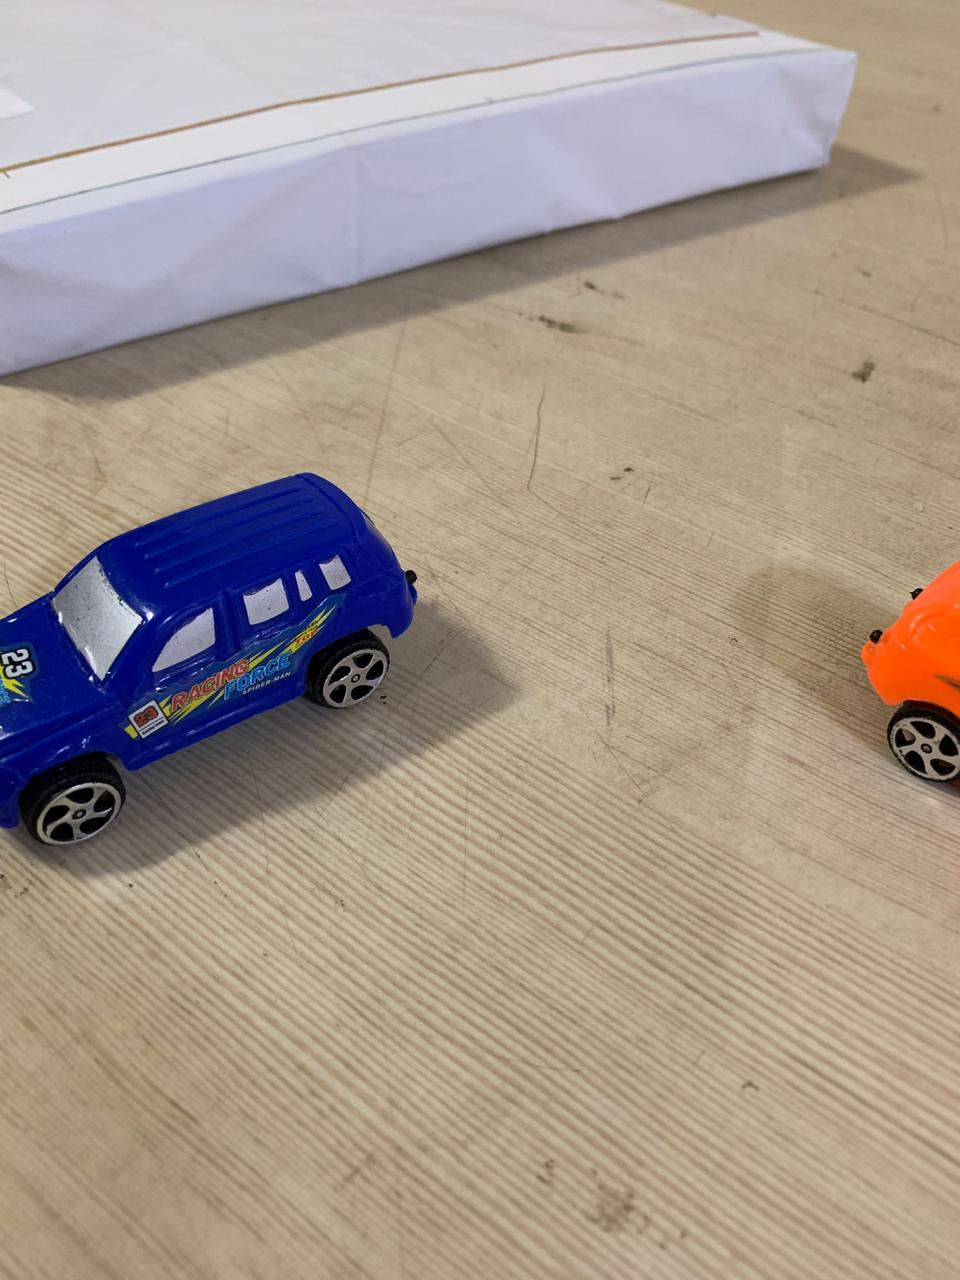car: (9, 472, 429, 848)
